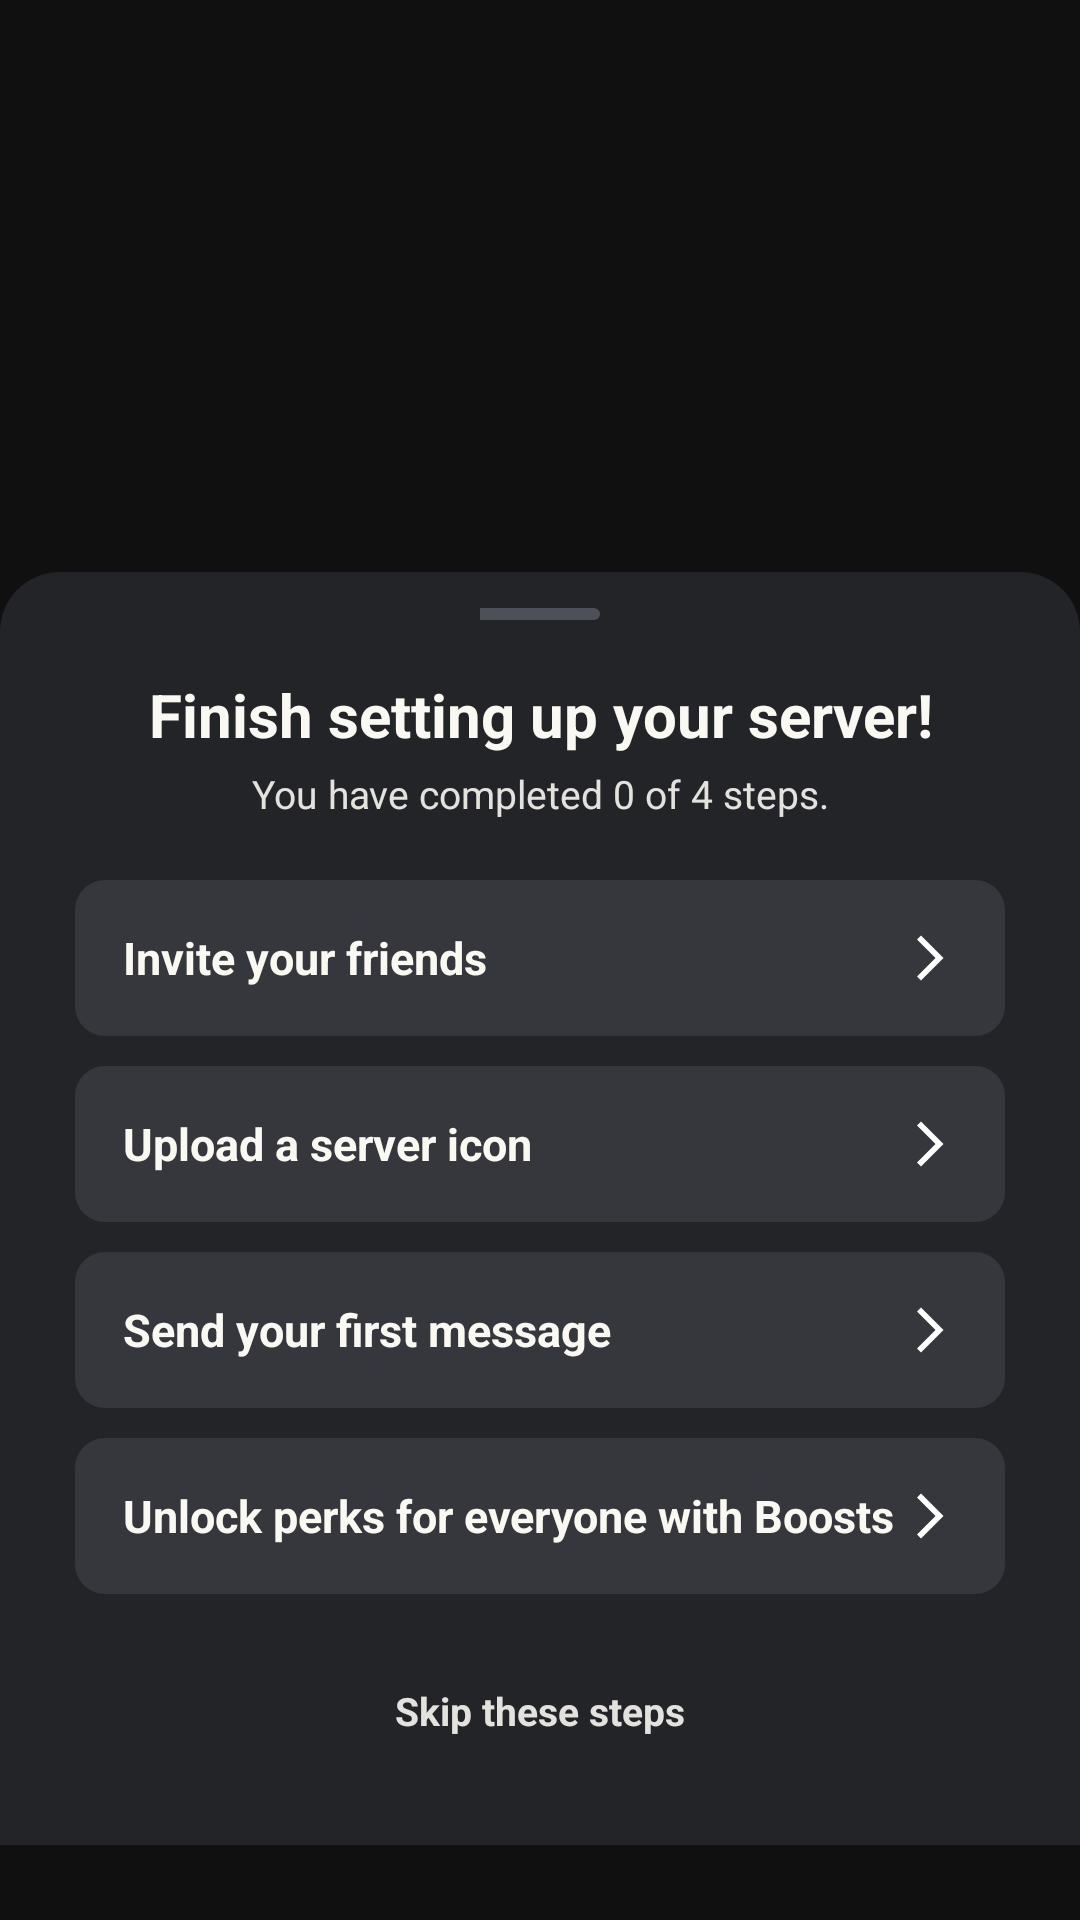

Icons on this 1080x1920 Android screen, each with its box as bbox=(x1, y1, x2, y2):
forward arrow: bbox=(917, 935, 944, 981), bbox=(917, 1121, 944, 1167), bbox=(917, 1307, 944, 1353), bbox=(917, 1493, 944, 1539)
